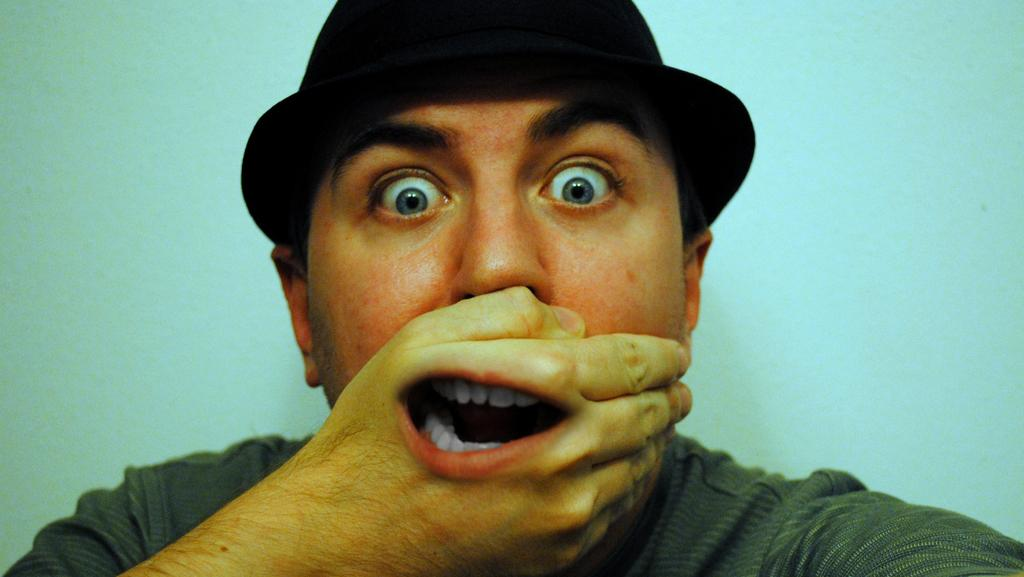Hat: (240, 0, 754, 244)
